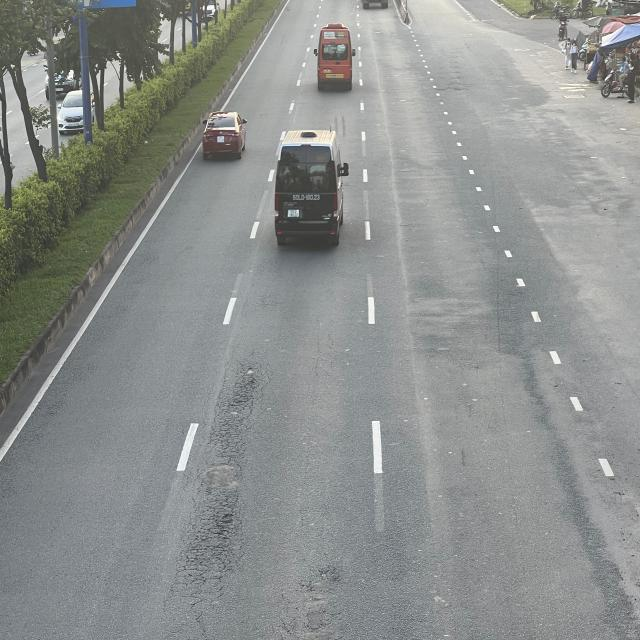car: (202, 112, 246, 162)
van: (271, 131, 347, 249), (314, 22, 356, 90)
